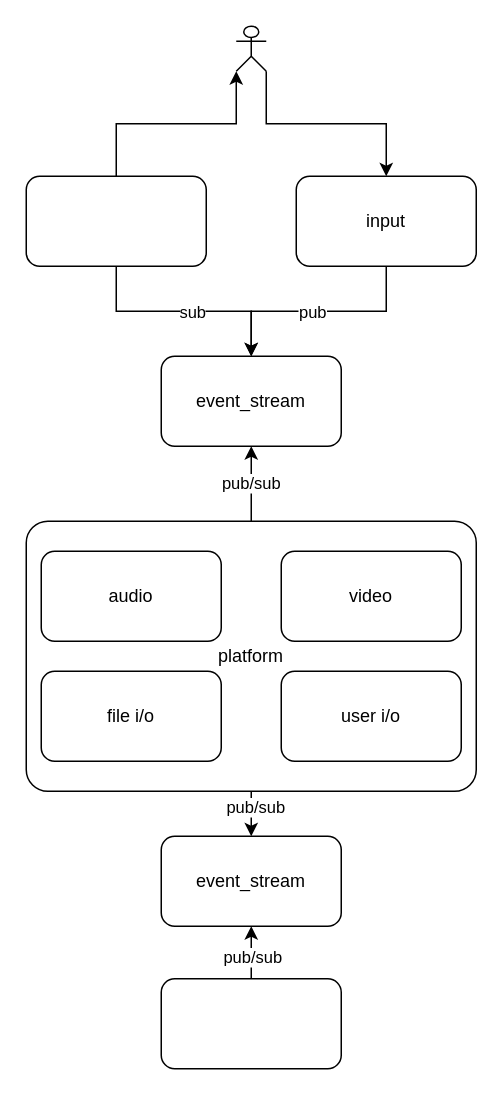
The diagram is 503 pixels wide and 1095 high, and some of its shapes have lost their labels. Here are the shapes that lost their labels. From the top down, the centre of each, then its label:
(x=250, y=48): us
(x=115, y=220): output video/sound/vibro
(x=250, y=1023): core
